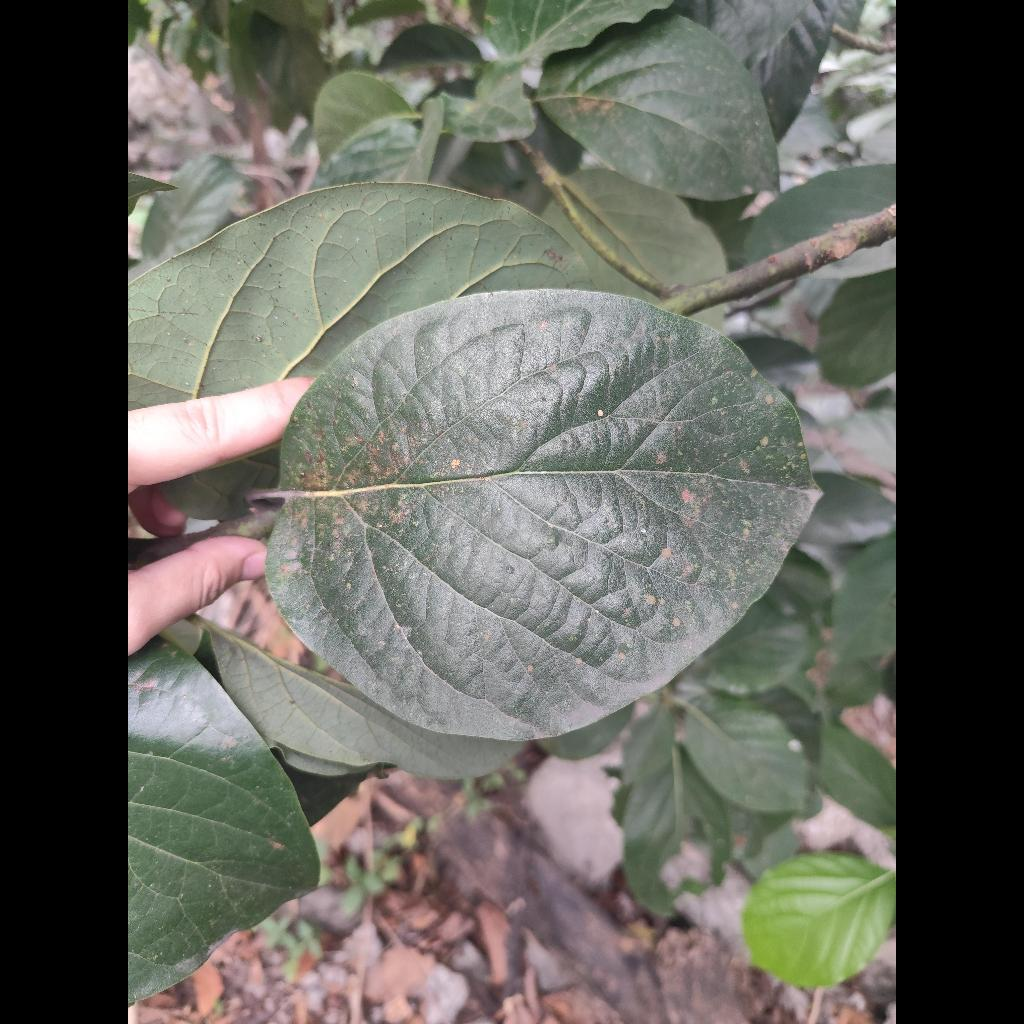antracnosis_hoja: (268, 290, 815, 740)
